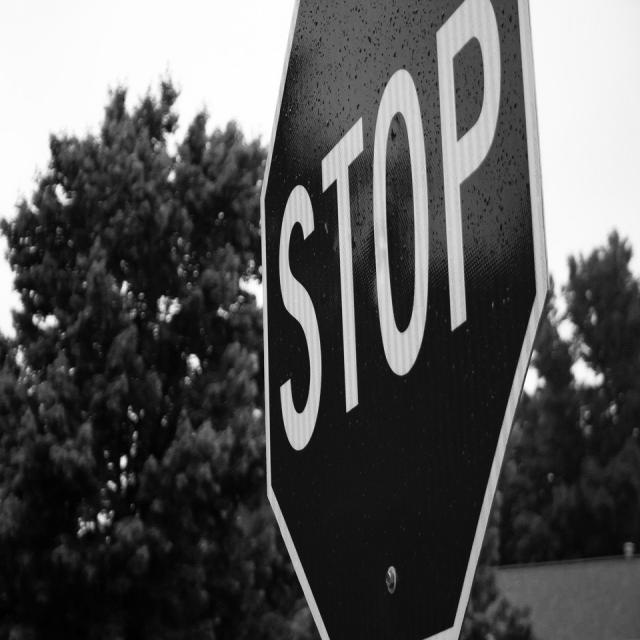Stop-sign: (247, 0, 558, 640)
